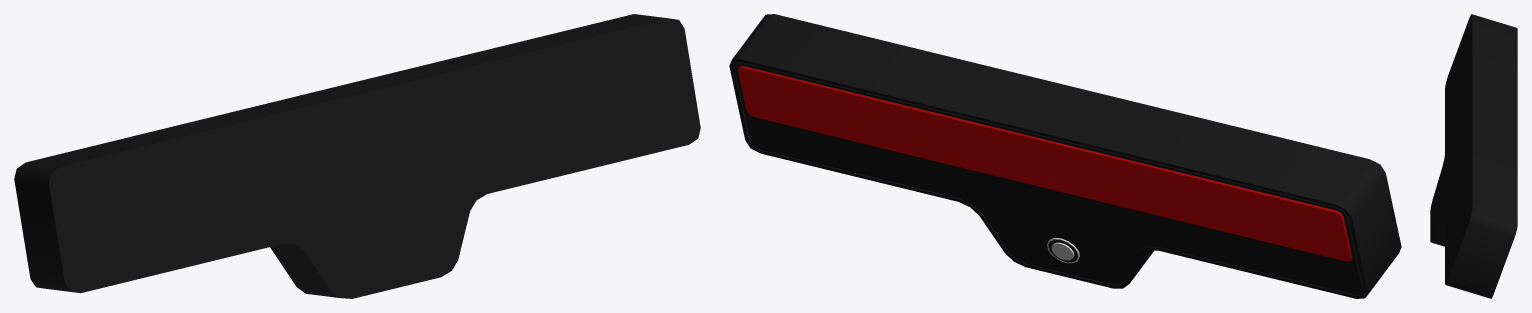
File: Smart_Light_1.glb
3 views of the same model, side by side, from view 1: azimuth 30°, elevation 25°; view 2: azimuth 150°, elevation 25°; view 3: azimuth 270°, elevation 25° (orthographic). The views are drawn at different scales.
Parts seen in each view (by area): view 1: Smart brake light.002; view 2: Smart brake light.002; view 3: Smart brake light.002.
Part boxes in pixels (left/top/right/bottom): Smart brake light.002: left=14, top=14, right=700, bottom=298; Smart brake light.002: left=729, top=14, right=1401, bottom=298; Smart brake light.002: left=1430, top=14, right=1517, bottom=298.
Bounding box in the file's own units: 0.0885 × 0.0257 × 0.016.
